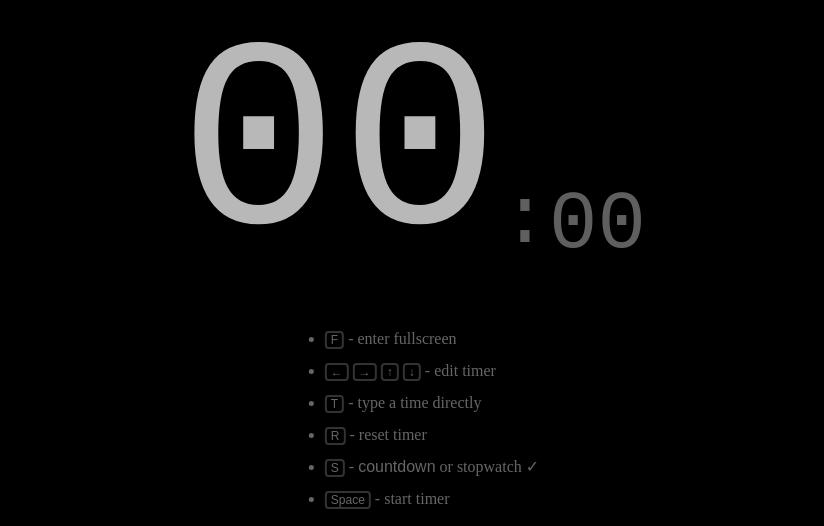
Test: lets the user type a time directly
Click the button "T": click(334, 404) 325,395 -> 344,413
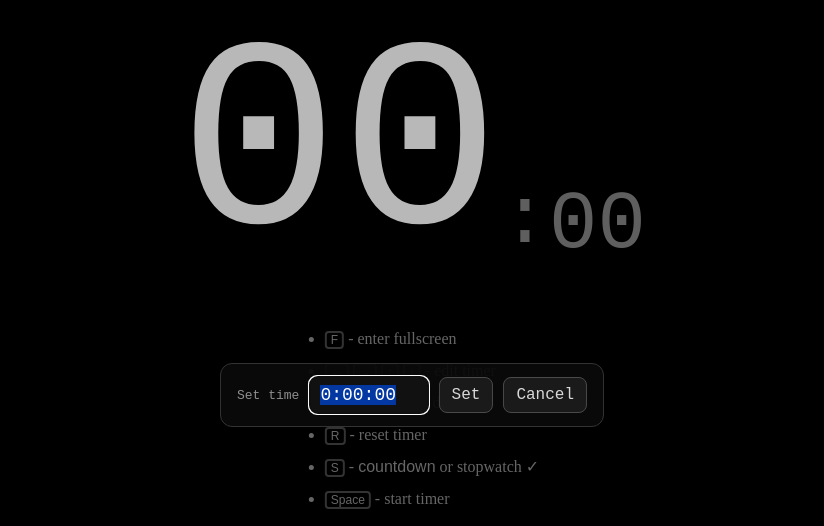
Replace the text in the field named "Time input" with "1:23:45": (369, 395) 309,376 -> 429,414
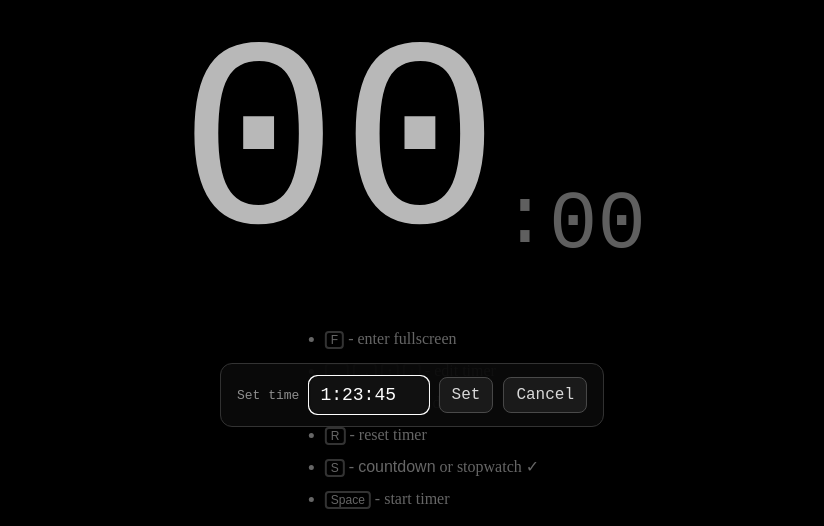
Click the submit button: click(466, 395) 439,377 -> 493,413
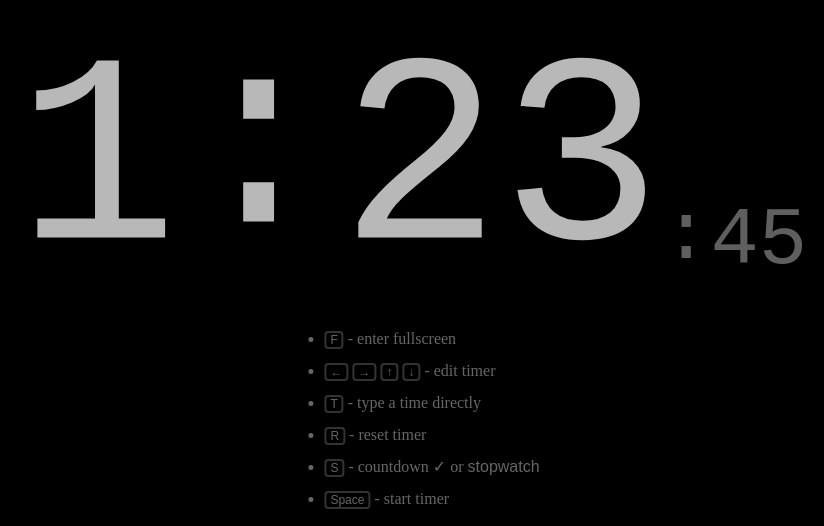
Now the element with class "clock" reads "1 : 23 : 45", box 17,17 -> 807,285
Now the text "countdown ✓" is shown, box 358,458 -> 446,475
